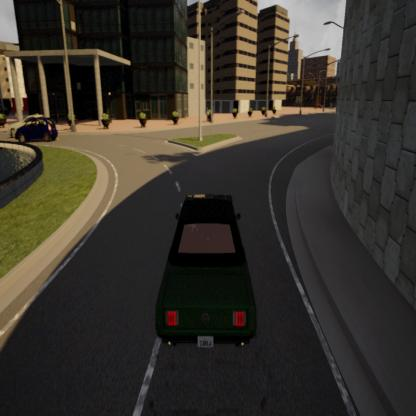Cars: (145, 177, 261, 358), (7, 104, 56, 141), (13, 112, 62, 146)
